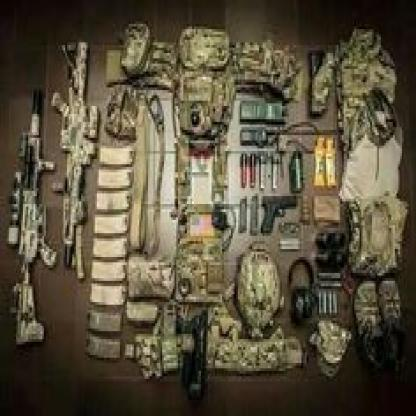Grenade: (290, 149, 304, 192)
Gun: (6, 85, 60, 347), (51, 38, 98, 283)
Pistol: (259, 193, 299, 236)
